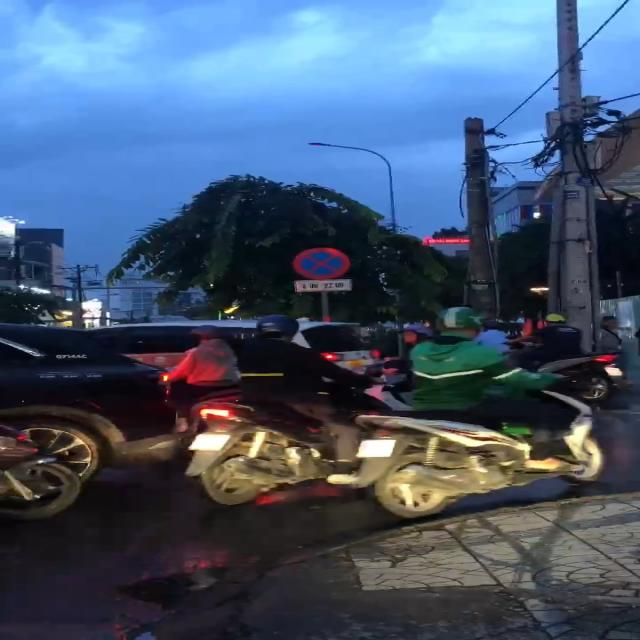Bien bao cam dung xe va do xe: (289, 244, 351, 280)
